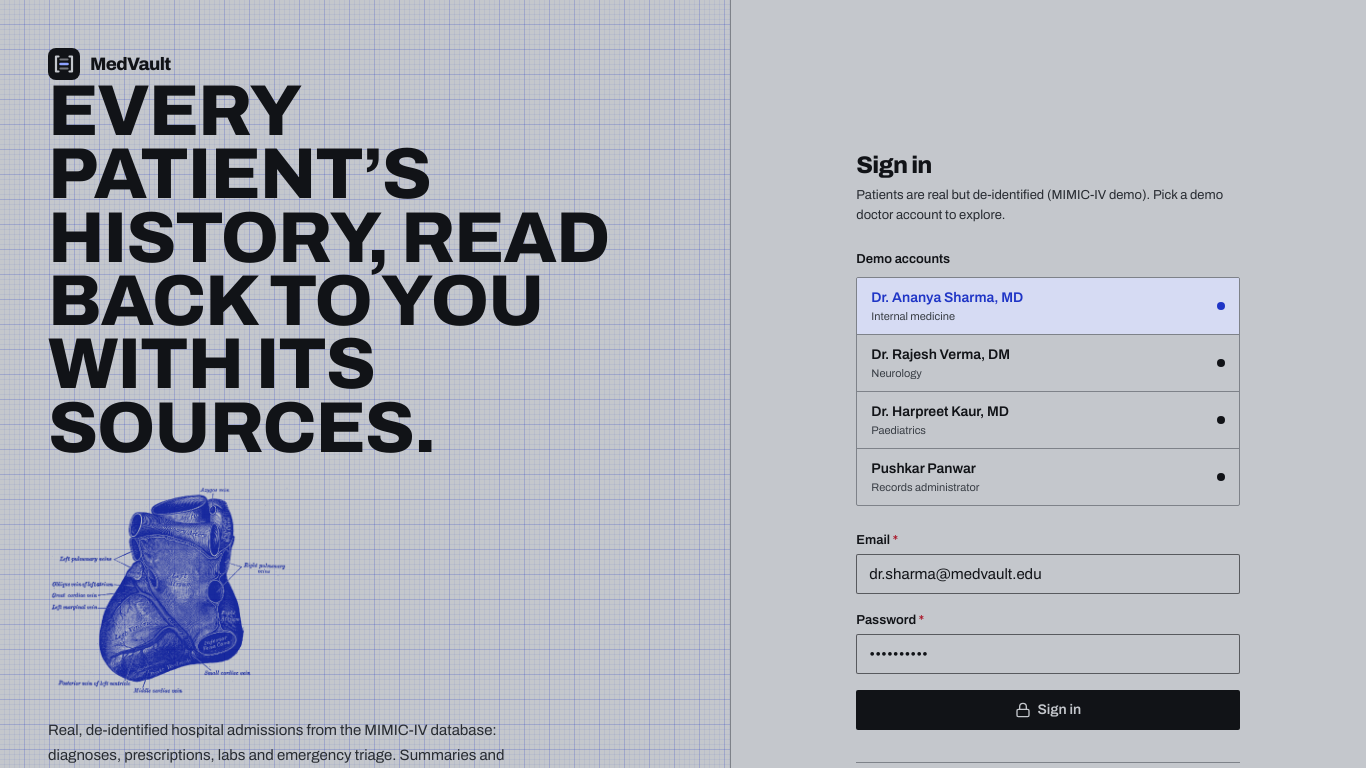
Test case: MedVault AI frontend › gives the admin a records-administration home with completeness and activity
This screenshot has width=1366, height=768.
Click the button "Pushkar Panwar Records administrator" at (924, 469), box [857,449,1239,505]
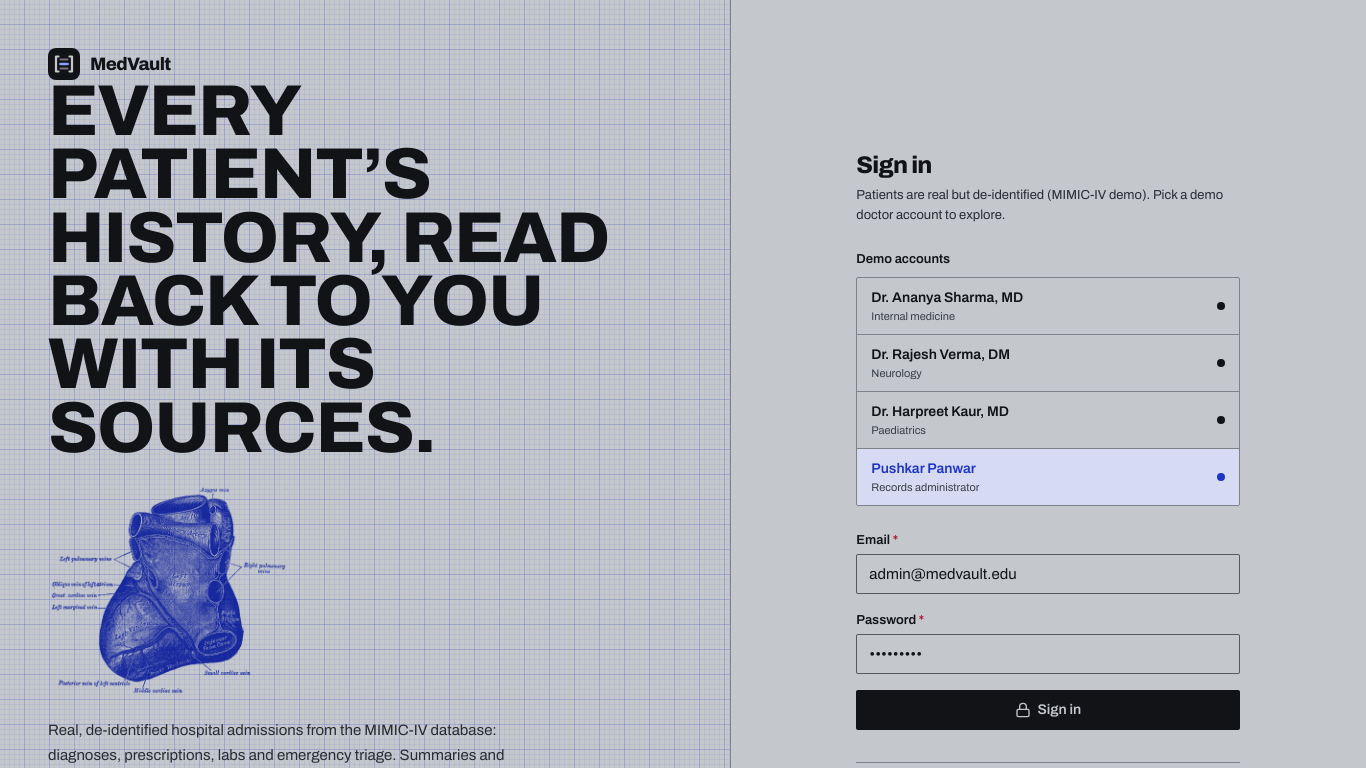
Click the button "Sign in" at (1048, 710), box [856,690,1240,730]
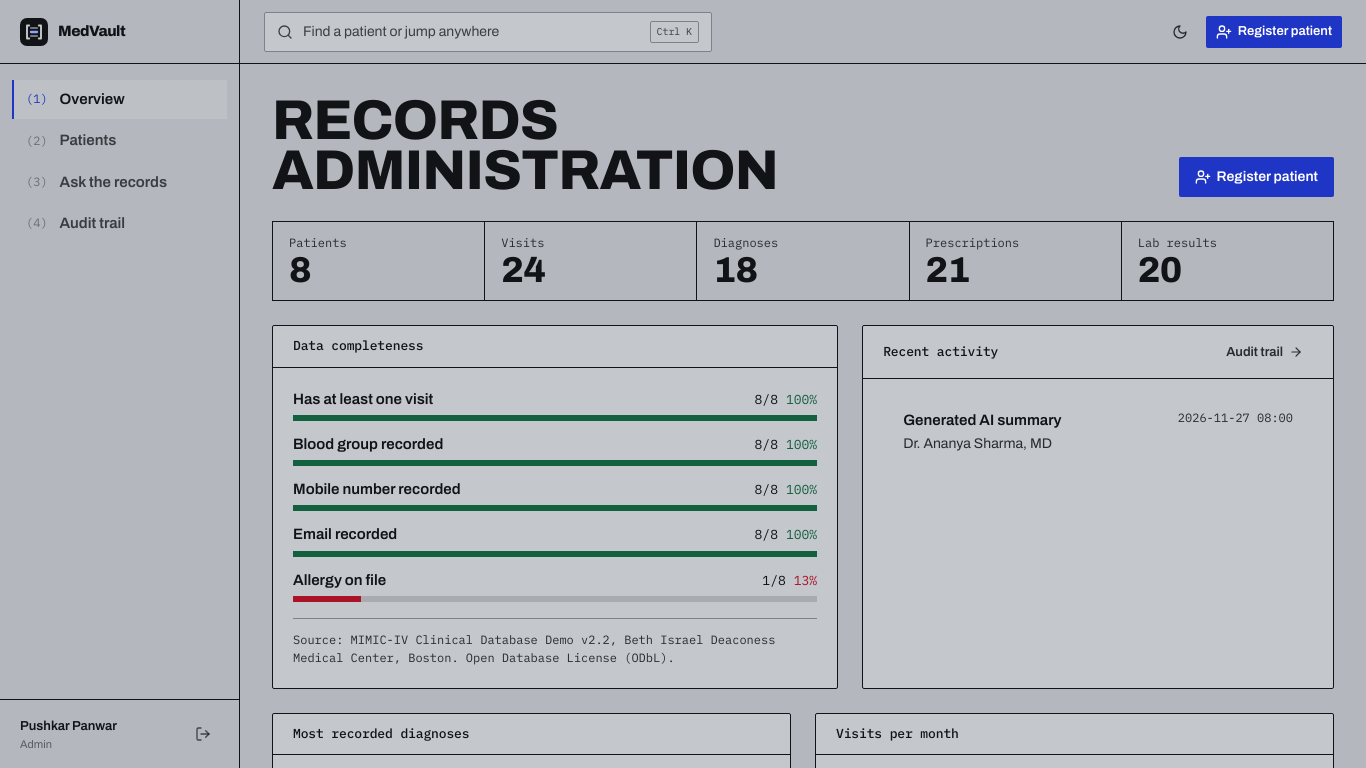
Expected: the heading "Records administration" is shown, [272,90,778,201]
Expected: the heading "Data completeness" is shown, [293,336,423,356]
Expected: the text "Blood group recorded" is shown, [293,433,443,456]
